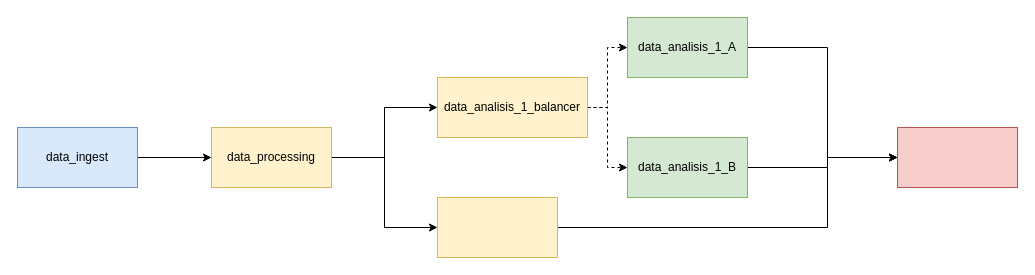
The diagram is 1035 pixels wide and 275 high, and some of its shapes have lost their labels. The centre of each missing label's shape, as x and y in pixels:
"data_analisis_2" belongs at (x=497, y=227).
"storage" belongs at (x=957, y=157).
